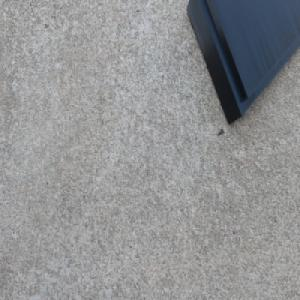PlasticPart: (186, 0, 300, 126)
